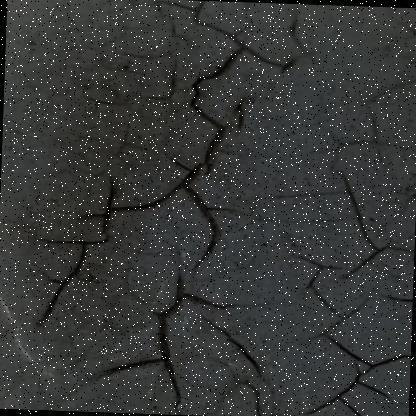Crack: (22, 0, 327, 415), (309, 7, 415, 415)
